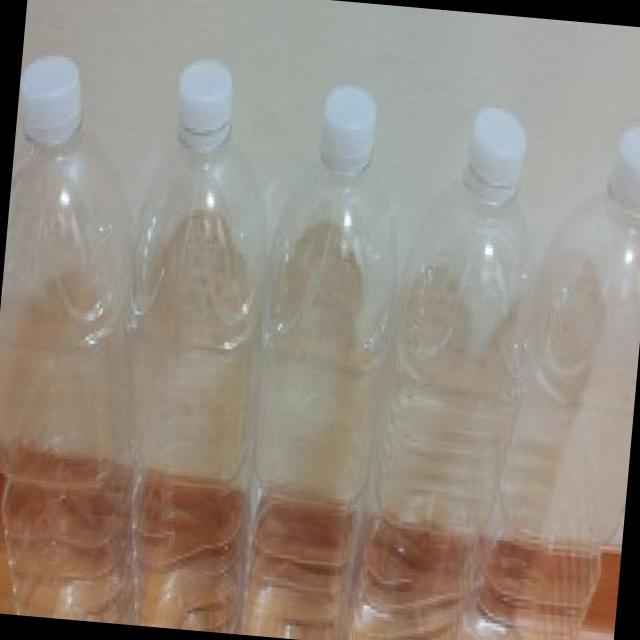plastic_bottle: (103, 55, 293, 634), (0, 53, 185, 625), (354, 99, 525, 640), (240, 79, 399, 640), (483, 116, 640, 640)
